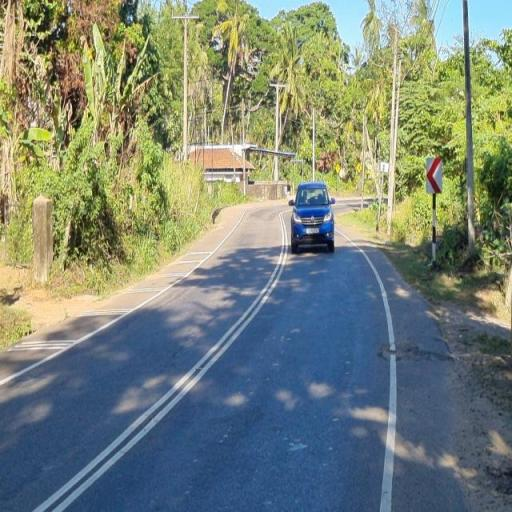double_white_line: (32, 209, 289, 512)
